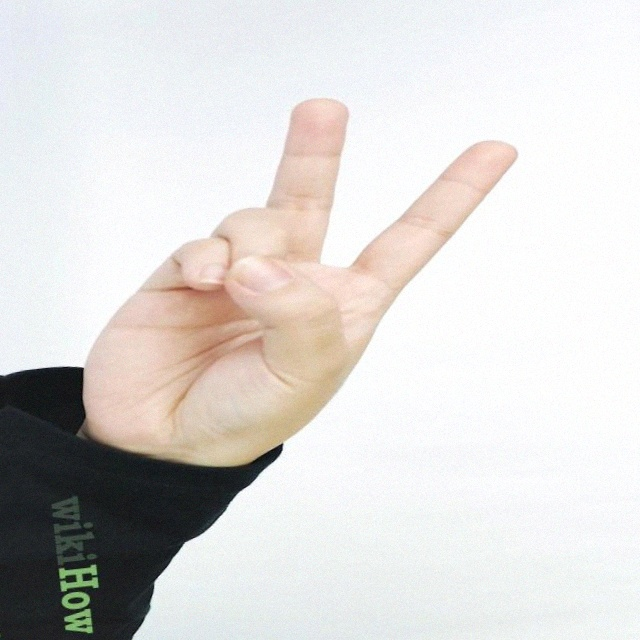Scissors: (50, 75, 550, 474)
